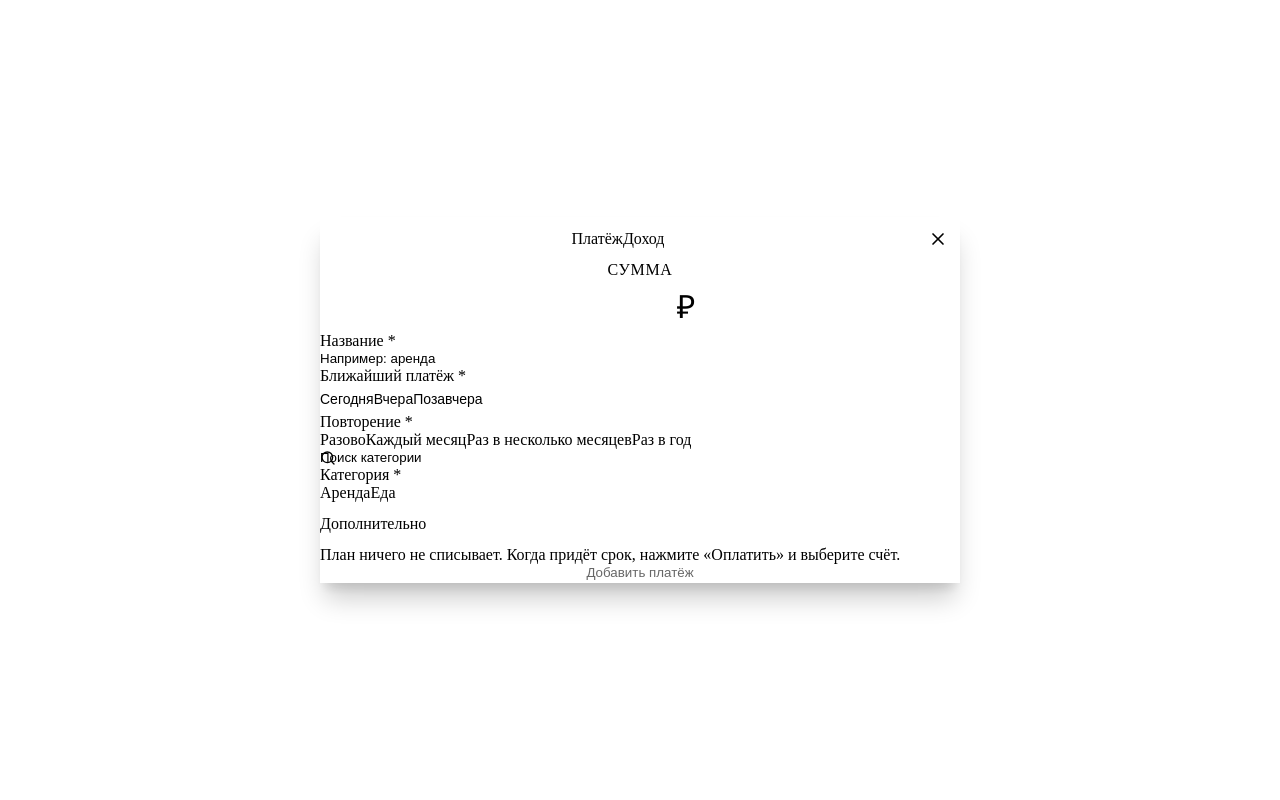
Test: PlanCreateDialog › labels the date and button per tab
Expected: the button with test id "plan-submit" reads "Добавить платёж", [320,564,960,583]
Click the tab "Доход".
click(644, 239)  # box [623,217,664,261]
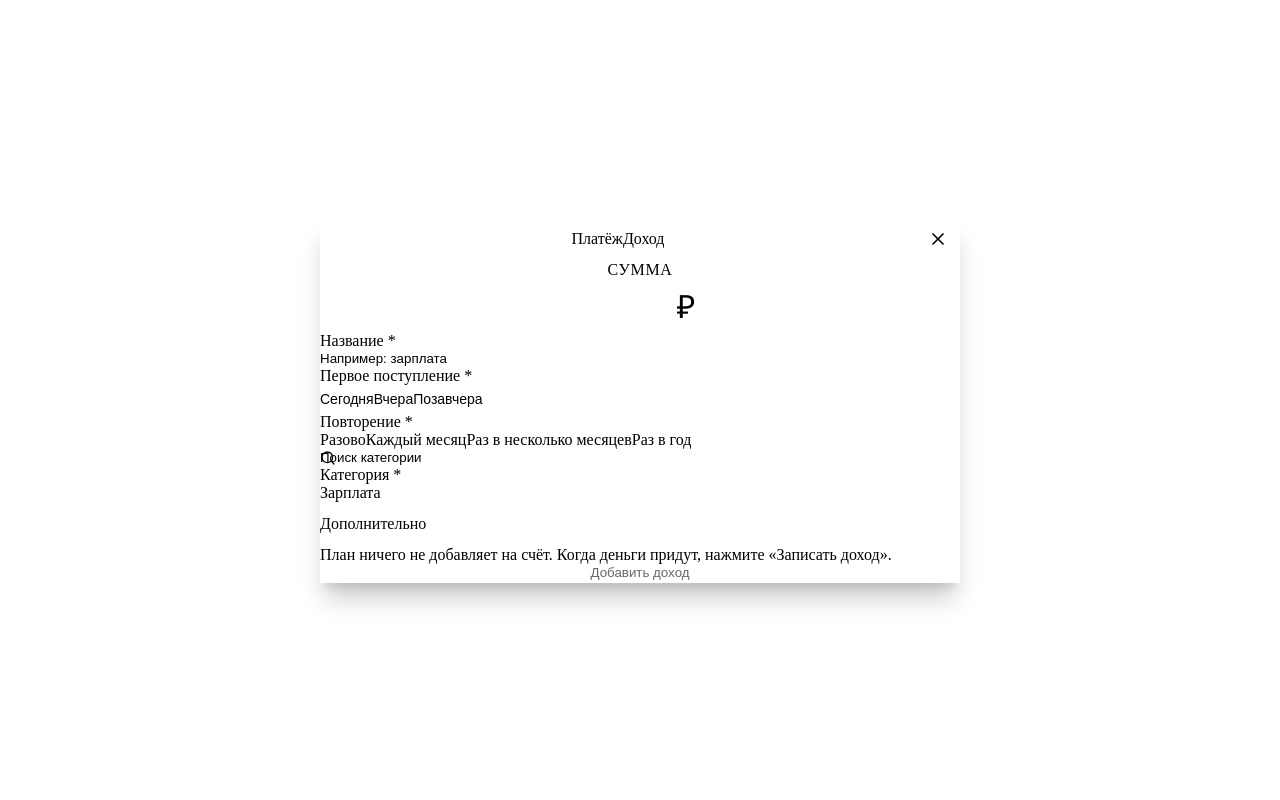
Expected: the text "Первое поступление" is shown, [320,367,460,384]
Expected: the button with test id "plan-submit" reads "Добавить доход", [320,564,960,583]
